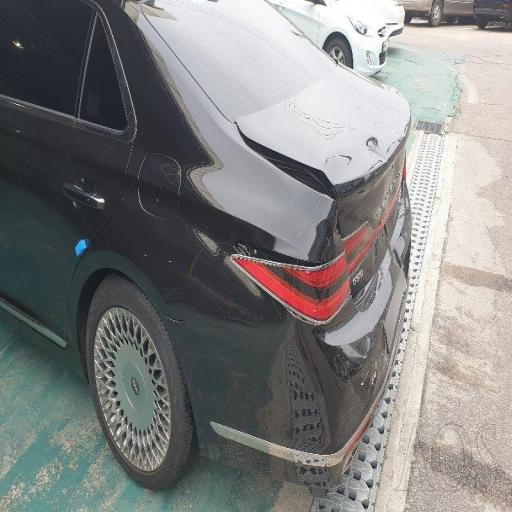broken: (174, 108, 420, 408)
